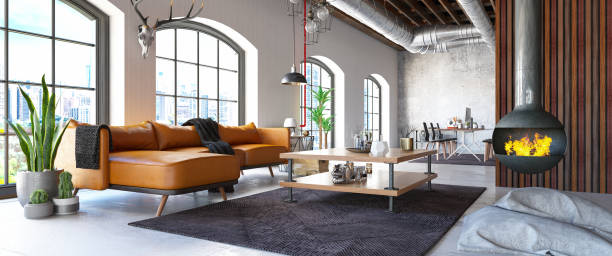dining table set: (421, 121, 494, 161)
large plant: (8, 73, 69, 207), (307, 86, 339, 148)
small plant: (53, 171, 80, 215), (24, 188, 53, 219)
sofa: (64, 117, 293, 219)
table: (276, 146, 439, 214)
table lamp: (284, 117, 298, 134)
